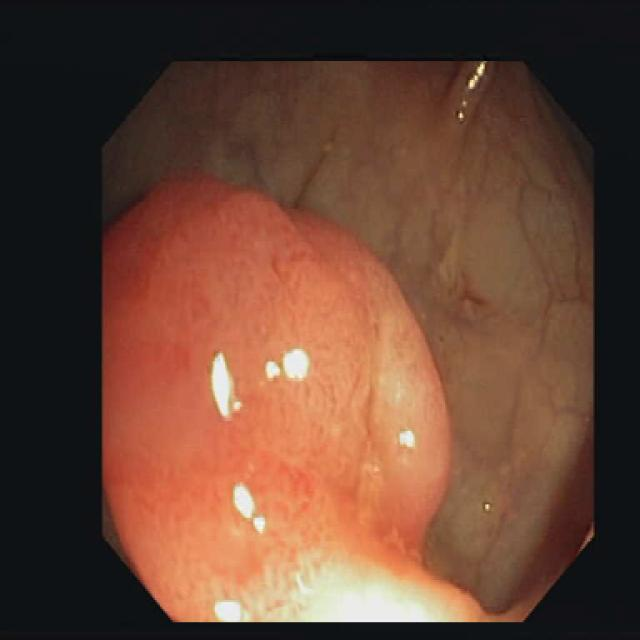tumor: (103, 176, 482, 620)
